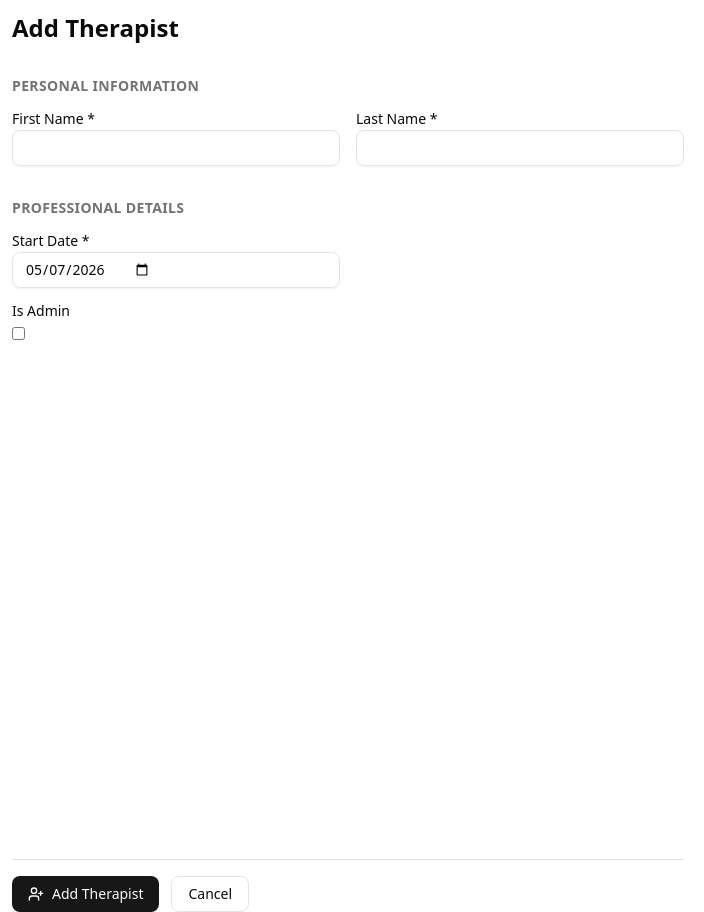
Test: TherapistFormPage — new therapist › shows generic error alert on save failure
Step 1. Type "Alice" into the field named "first name" → (176, 148), box 12,130 -> 340,166
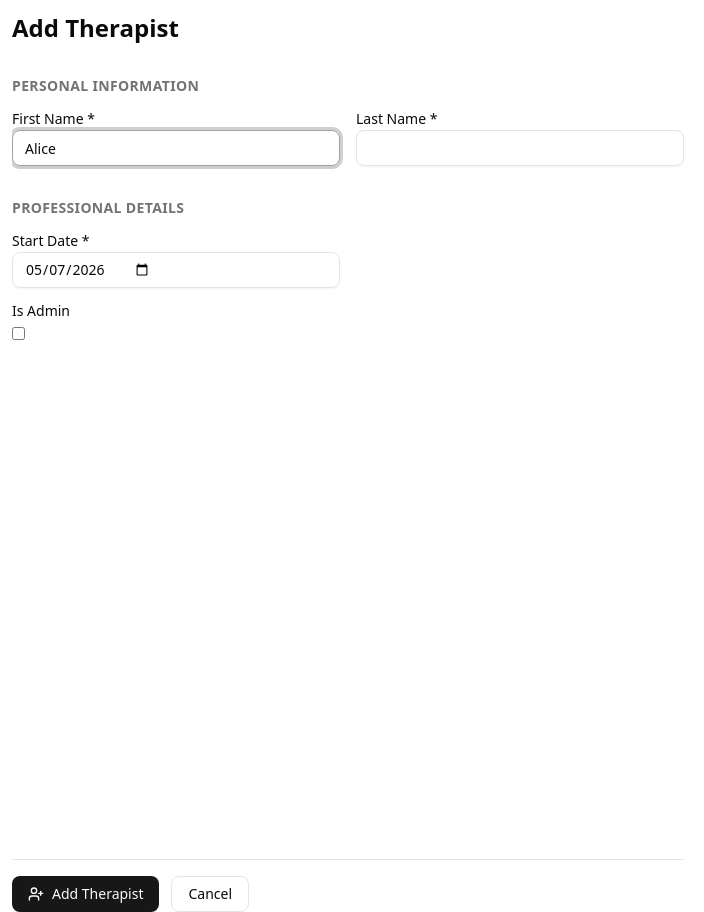
Step 2. Type "Morgan" into the field named "last name" → (520, 148), box 356,130 -> 684,166
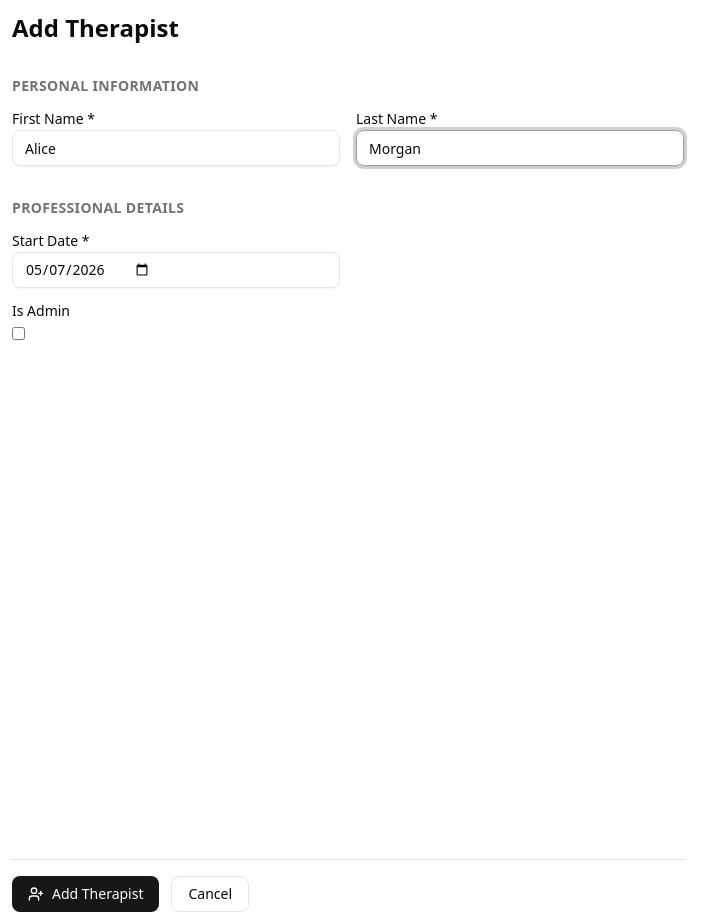
Step 3. Click the button "Add Therapist" → (86, 894), box 12,876 -> 160,911
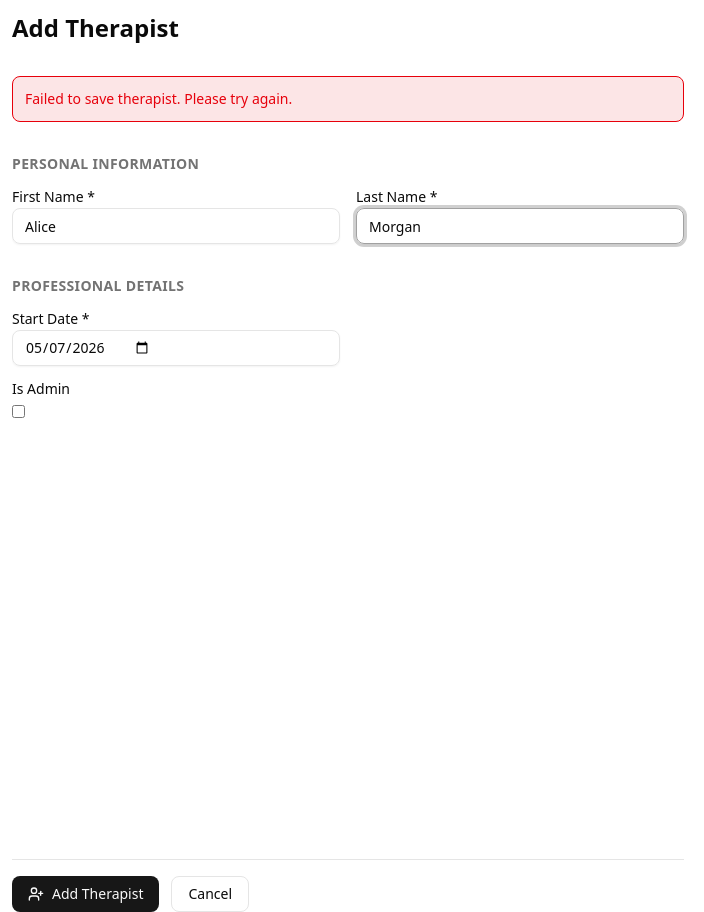
Expected: the message shows "Failed to save therapist", 25,89 -> 292,108
